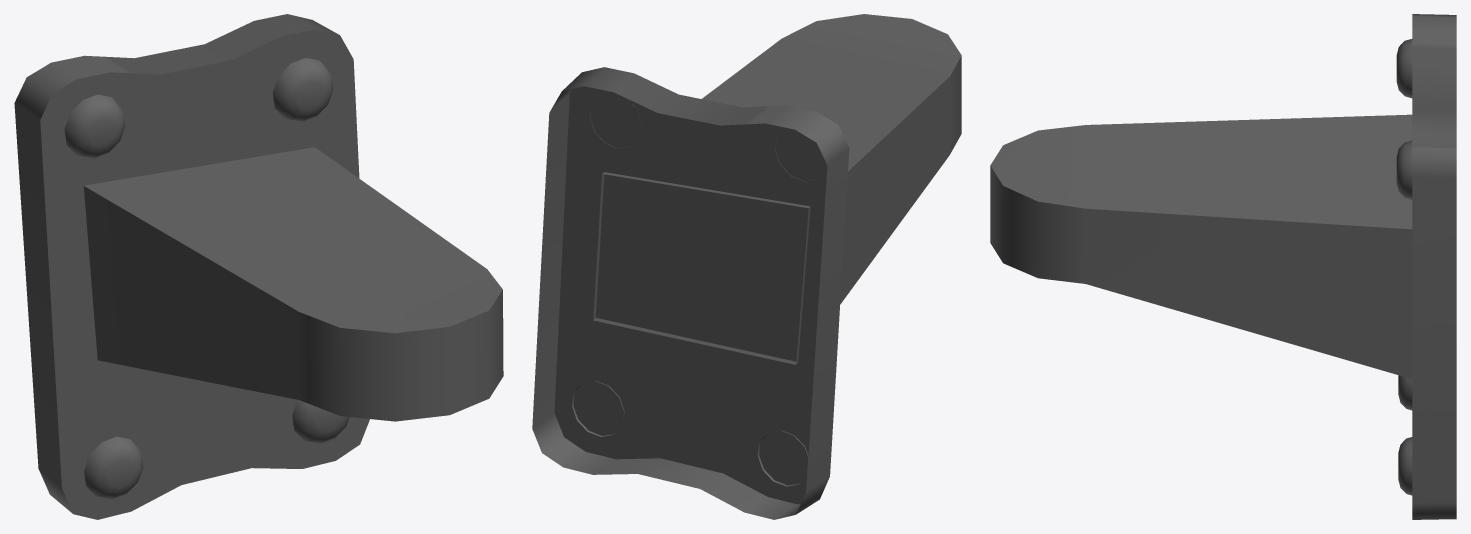
File: SM_camera_socle.fbx
The picture shows the model from 3 angles, left to right: view 1: azimuth 30°, elevation 25°; view 2: azimuth 150°, elevation 25°; view 3: azimuth 270°, elevation 25°; orthographic projection. The views are drawn at different scales.
Parts seen in each view (by area): view 1: SM_camera_socle; view 2: SM_camera_socle; view 3: SM_camera_socle.
Part boxes in pixels (box(x1,y1,x2,y2)): SM_camera_socle: box(14, 14, 503, 519); SM_camera_socle: box(532, 14, 961, 519); SM_camera_socle: box(990, 14, 1456, 519).
Size of the model in its own units: 0.1043 by 0.1341 by 0.1446.
1 material, 1 textured.
